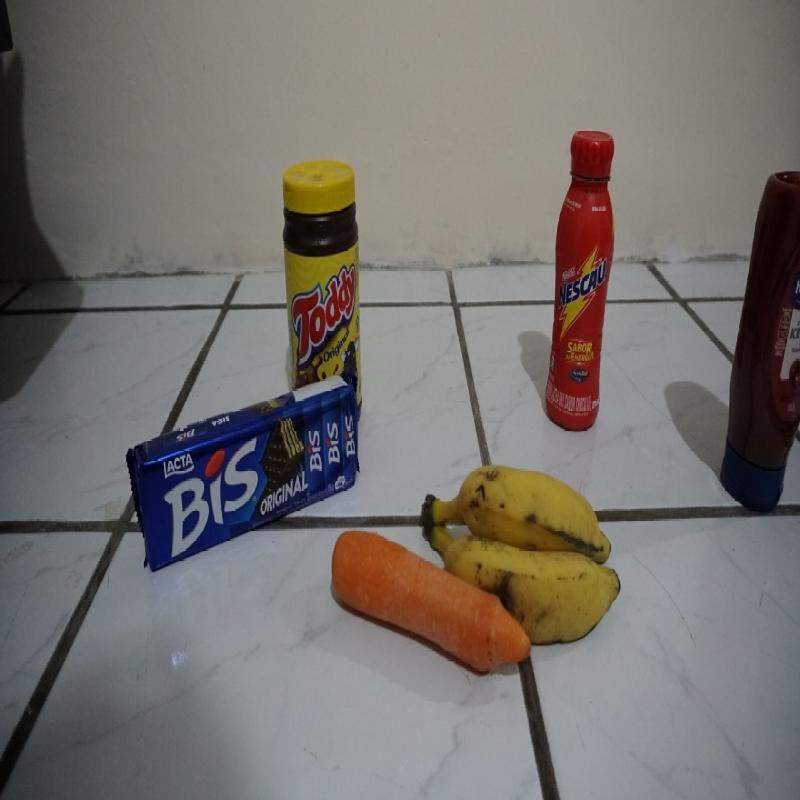Banana: (446, 457, 631, 575)
Carrot: (330, 522, 431, 662)
Chocolate Milk: (551, 126, 612, 428)
Chocolate Powder: (283, 161, 362, 378)
Ketchup: (717, 156, 798, 532)
